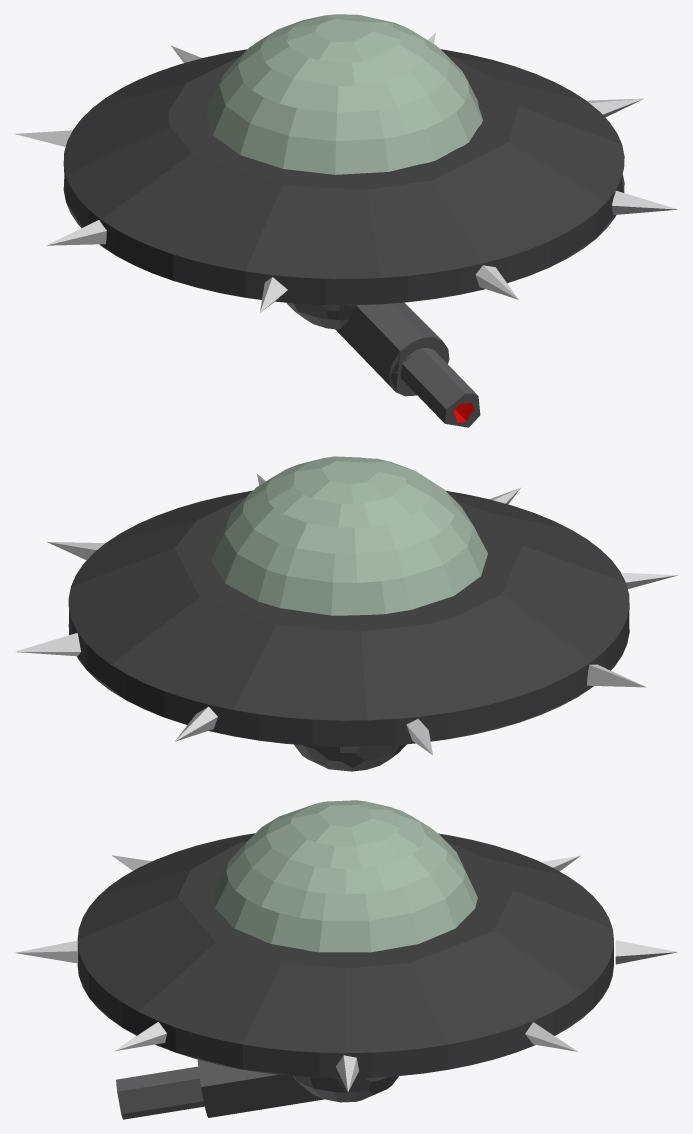
The model's file is ufo-gun-fixed2.fbx.
The picture shows the model from 3 angles, top to bottom: view 1: azimuth 30°, elevation 25°; view 2: azimuth 150°, elevation 25°; view 3: azimuth 270°, elevation 25°; orthographic projection. The views are drawn at different scales.
Visible parts, largest first — view 1: Circle, Circle.001, Cone; view 2: Circle, Cone; view 3: Circle, Circle.001, Cone.
Part boxes in pixels (x1,y1,x2,y2): Circle: (63, 14, 624, 329); Circle.001: (335, 302, 480, 427); Cone: (15, 33, 678, 312); Circle: (68, 456, 629, 771); Cone: (14, 474, 677, 754); Circle: (77, 800, 613, 1102); Circle.001: (116, 1059, 323, 1119); Cone: (14, 855, 678, 1091).
Size of the model in its own units: 796 by 398 by 800.
